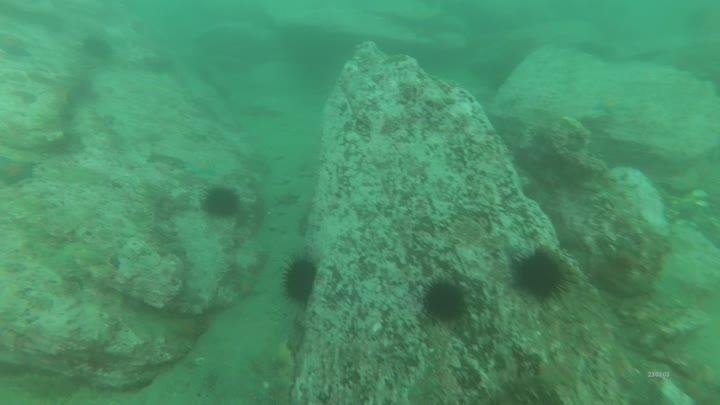echinus: (508, 245, 572, 303), (420, 276, 469, 324), (279, 254, 320, 306), (200, 184, 242, 220), (79, 32, 115, 63)
holothurian: (265, 337, 300, 405)
starfish: (1, 154, 38, 189), (169, 314, 209, 345), (590, 92, 633, 118), (182, 153, 221, 179), (231, 271, 263, 302), (1, 32, 33, 61)
